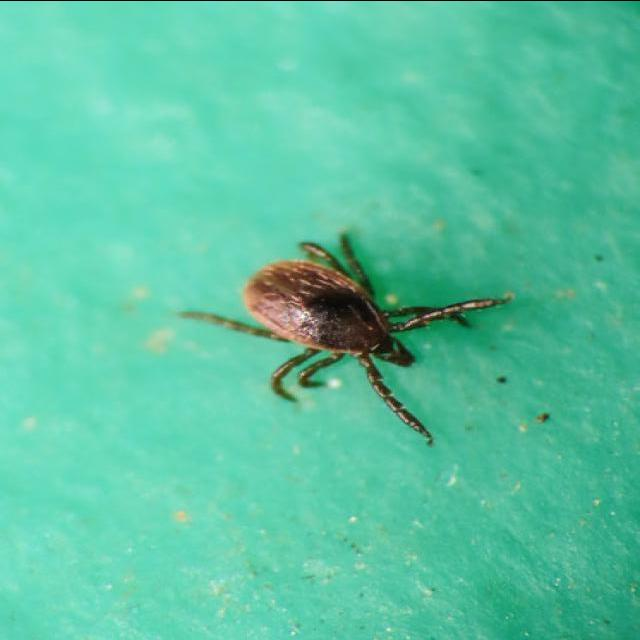Ixodes Ricinus-F: (190, 233, 515, 445)
